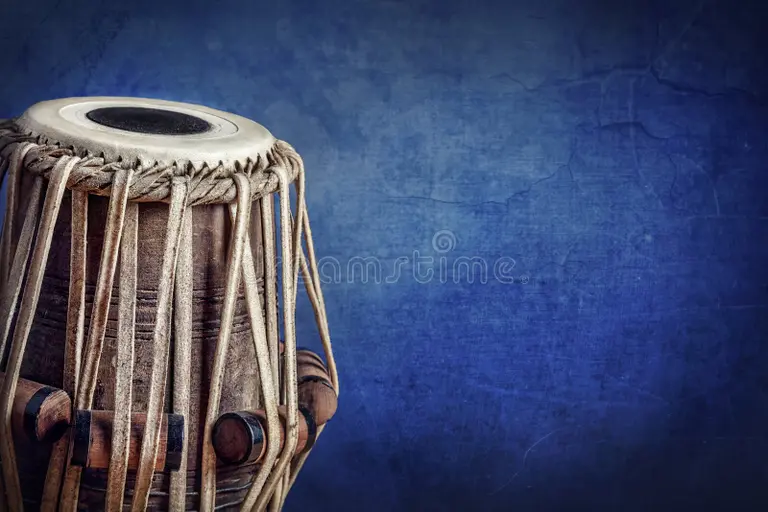tabla: (20, 99, 337, 510)
